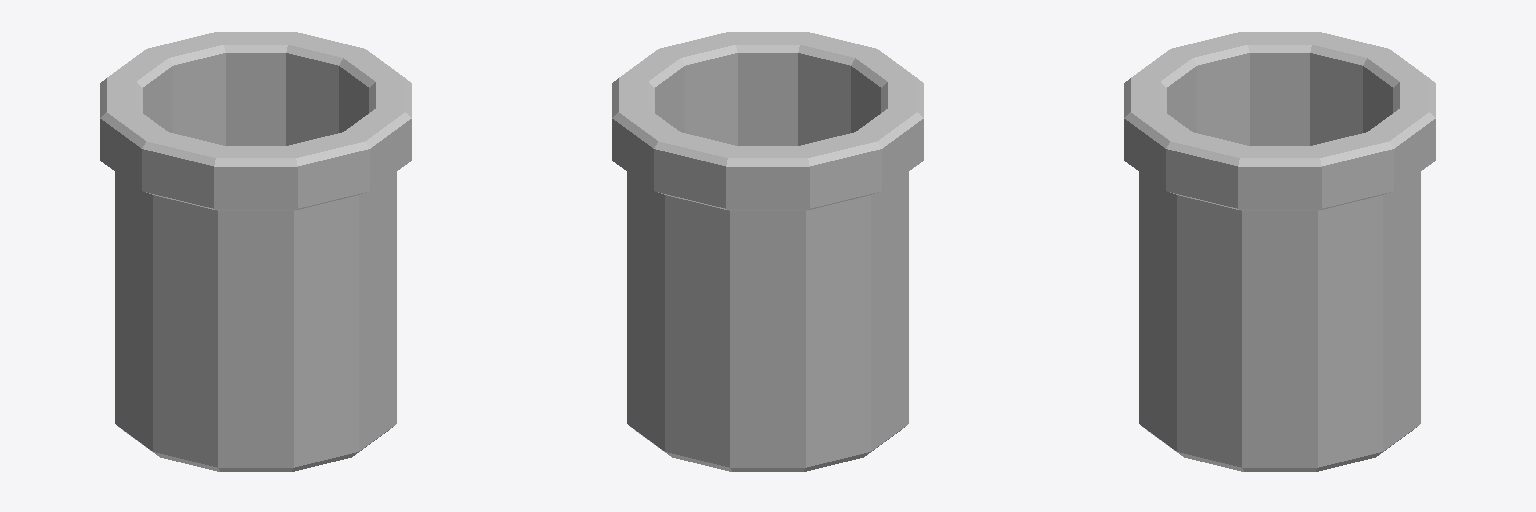
Rendered from trash_can.obj.
3 renders of one model, left to right at view 1: azimuth 30°, elevation 25°; view 2: azimuth 150°, elevation 25°; view 3: azimuth 270°, elevation 25°, orthographic.
Parts seen in each view (by area): view 1: trash_can; view 2: trash_can; view 3: trash_can.
Boxes of the visible parts, x1,y1,x2,y2 form: trash_can: [100, 32, 411, 471]; trash_can: [612, 32, 923, 471]; trash_can: [1124, 32, 1435, 471].
Bounding box in the file's own units: 1 × 1.14 × 1.